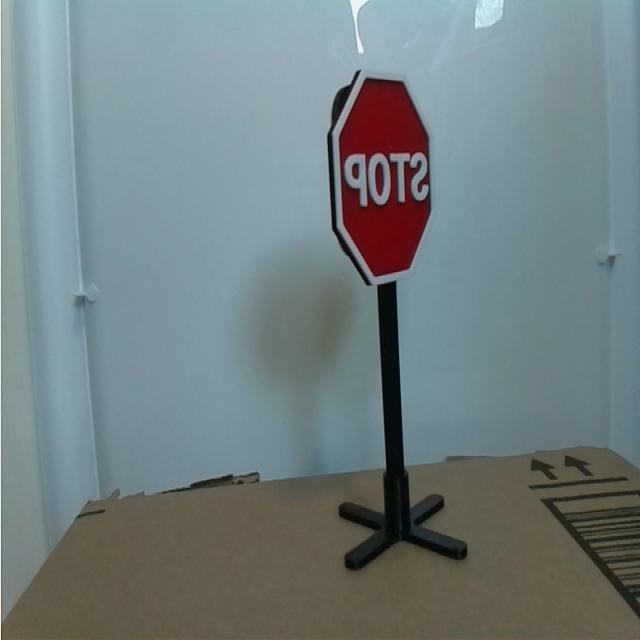sign_stop: (322, 58, 446, 305)
